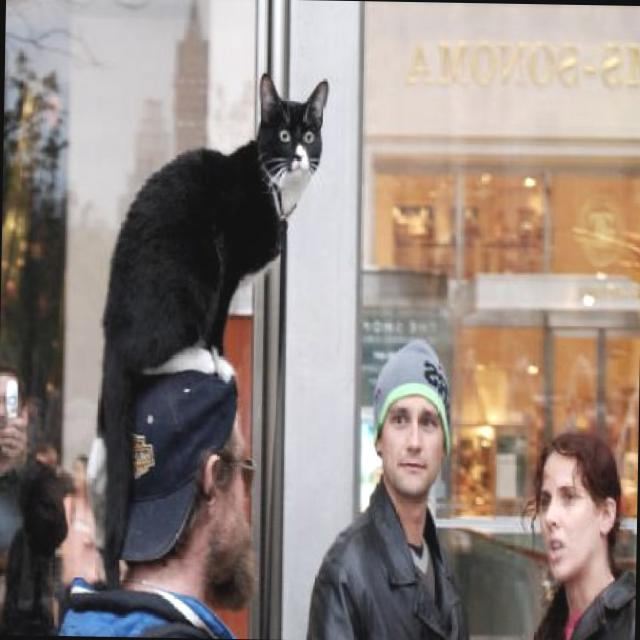Person: (58, 332, 260, 637), (308, 332, 474, 633), (534, 418, 638, 634), (0, 356, 72, 631), (62, 447, 112, 582)
